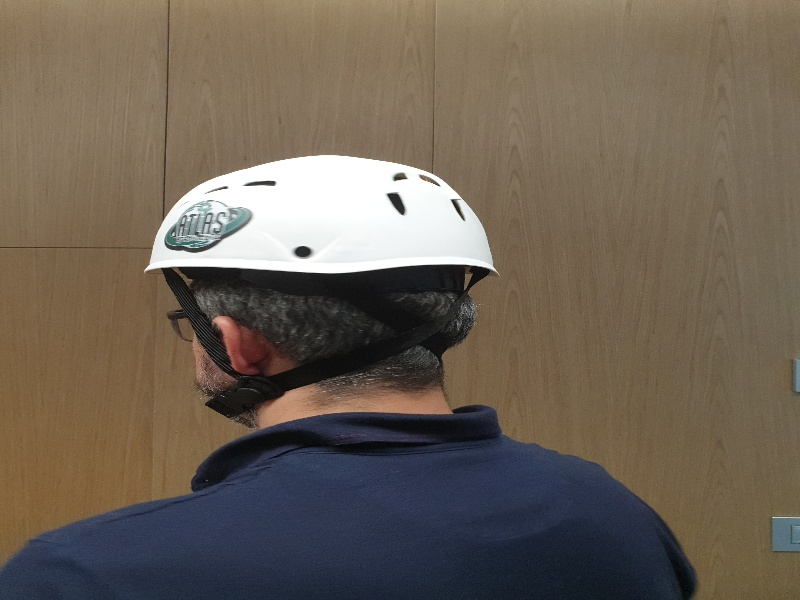Baret: (144, 154, 495, 274)
